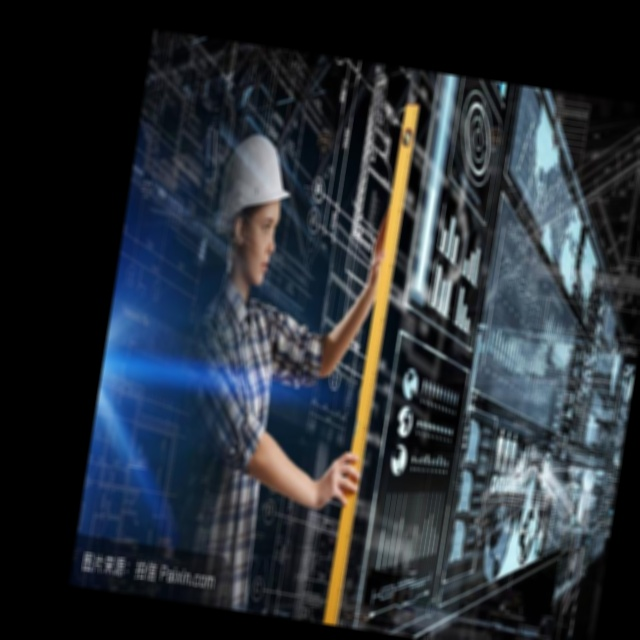Con_Casco: (213, 132, 296, 284)
